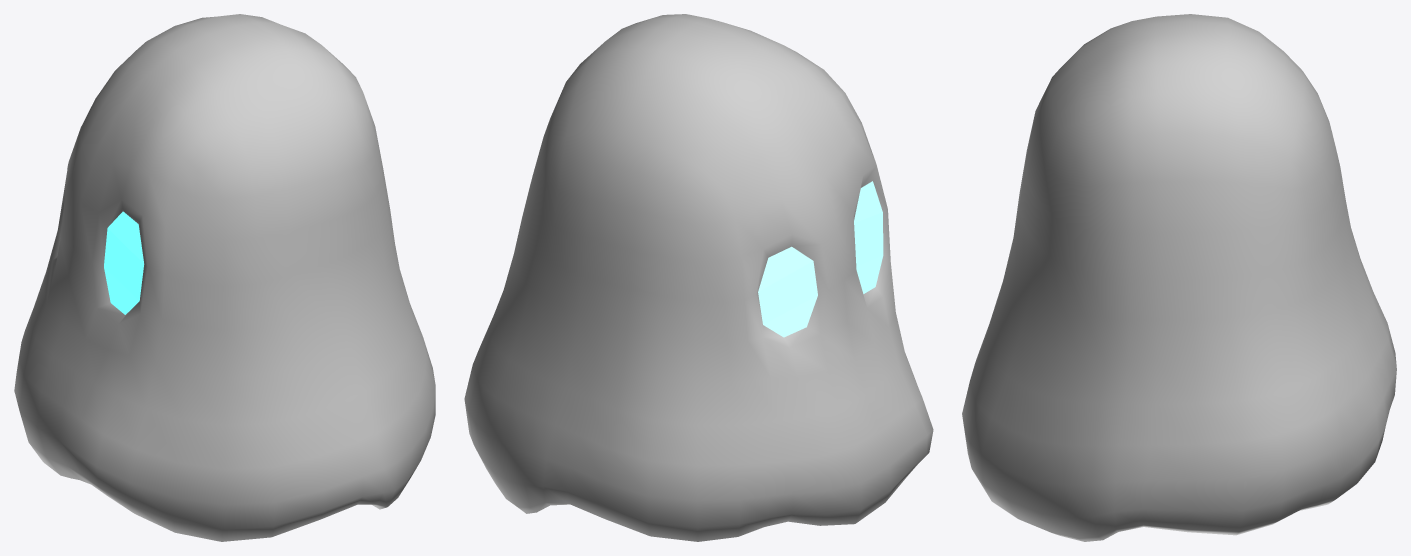
Rendered from hayalet.fbx.
The picture shows the model from 3 angles, left to right: view 1: azimuth 30°, elevation 25°; view 2: azimuth 150°, elevation 25°; view 3: azimuth 270°, elevation 25°; orthographic projection. The views are drawn at different scales.
Parts seen in each view (by area): view 1: Cube; view 2: Cube; view 3: Cube.
Boxes of the visible parts, x1,y1,x2,y2 form: Cube: [14, 14, 435, 541]; Cube: [464, 14, 933, 541]; Cube: [962, 14, 1396, 541].
Size of the model in its own units: 351 by 398 by 347.
